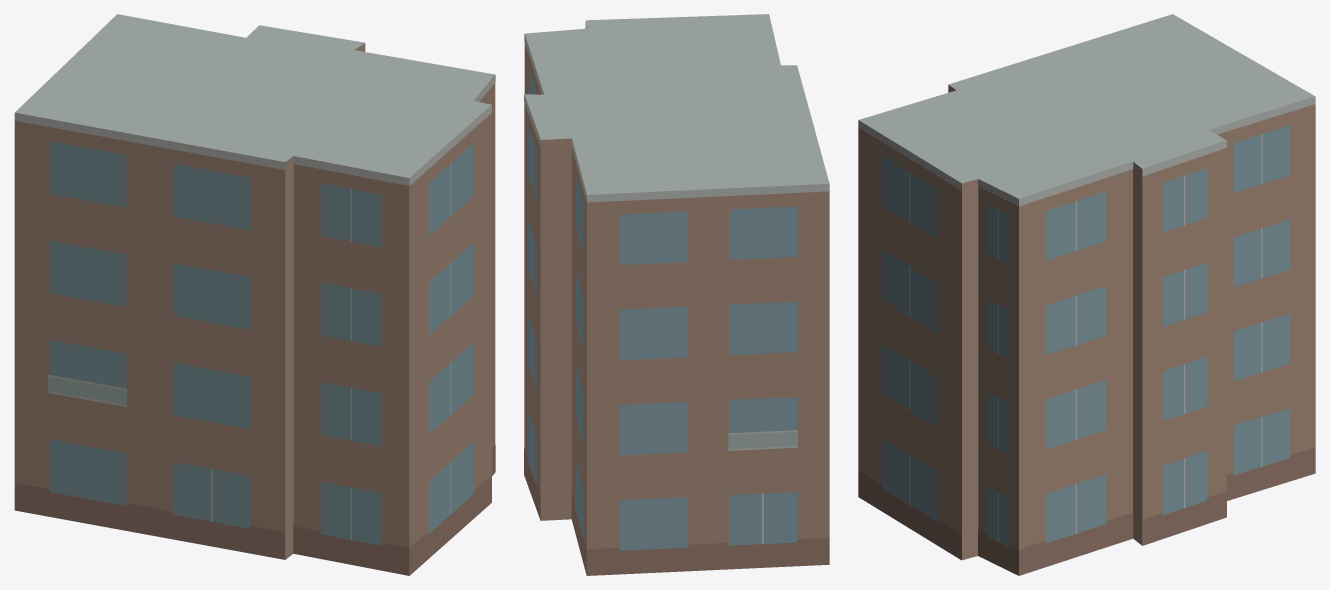
Rendered from survey-upis-32990345.glb.
3 renders of one model, left to right at view 1: azimuth 30°, elevation 25°; view 2: azimuth 150°, elevation 25°; view 3: azimuth 270°, elevation 25°, orthographic. The views are drawn at different scales.
Parts seen in each view (by area): view 1: survey-upis-32990345.tmp; view 2: survey-upis-32990345.tmp; view 3: survey-upis-32990345.tmp.
Part boxes in pixels (x1,y1,x2,y2): survey-upis-32990345.tmp: [14, 14, 495, 575]; survey-upis-32990345.tmp: [524, 14, 829, 575]; survey-upis-32990345.tmp: [858, 14, 1315, 575].
Size of the model in its own units: 12.84 by 12.2 by 13.42.
